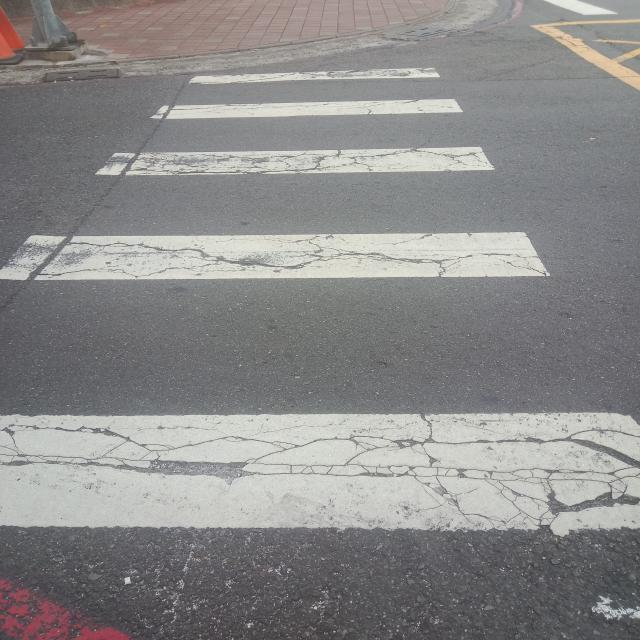zebra crossing: (0, 66, 638, 531)
